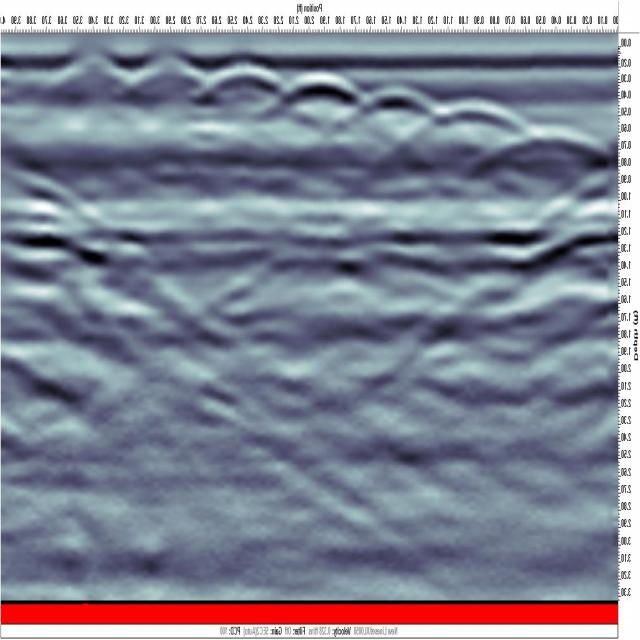hyperbola: (469, 117, 608, 189), (408, 87, 532, 165), (342, 78, 446, 148), (263, 64, 367, 133), (190, 58, 300, 121)
